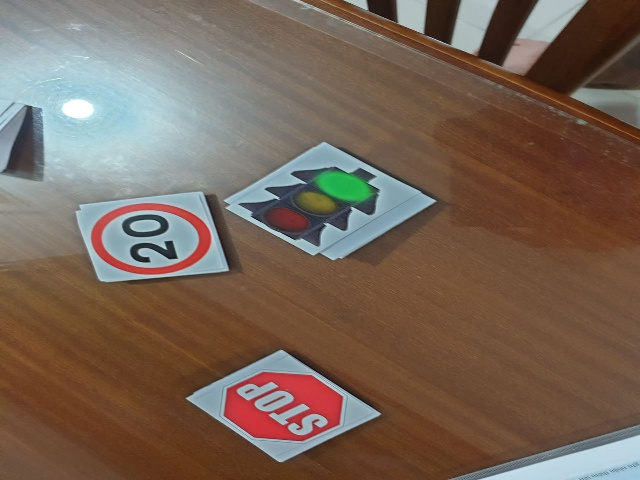Green: (247, 169, 386, 246)
Limit 20: (87, 203, 225, 269)
Stop: (223, 374, 353, 441)
